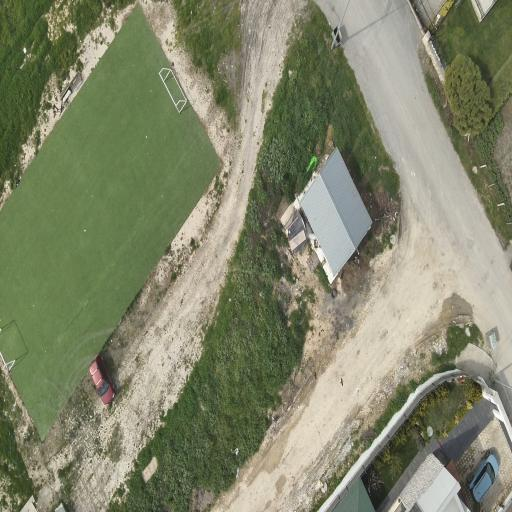car: (469, 452, 499, 502), (90, 355, 114, 405)
